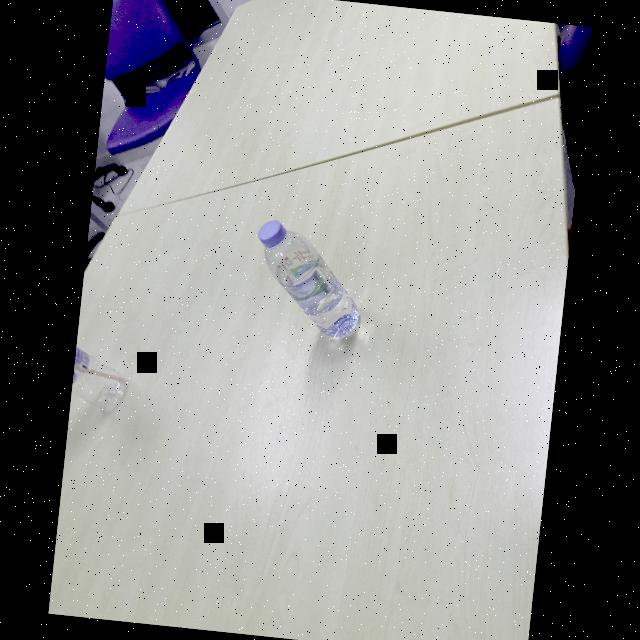plastic_bottle: (247, 216, 368, 352), (69, 342, 128, 420)
plastic_bottle_cap: (253, 218, 287, 250)
